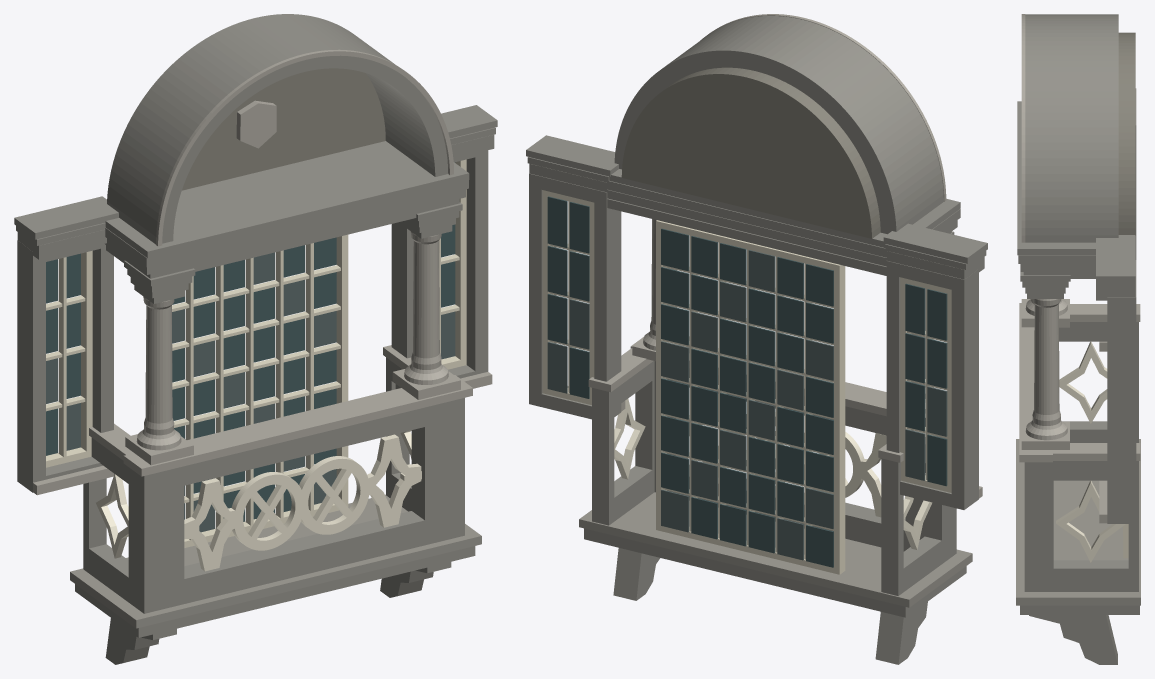
File: xuhui-yongjia-630-arched-balcony-web.glb
3 renders of one model, left to right at view 1: azimuth 30°, elevation 25°; view 2: azimuth 150°, elevation 25°; view 3: azimuth 270°, elevation 25°, orthographic. The views are drawn at different scales.
Parts seen in each view (by area): view 1: 永嘉路630号花园住宅二层拱窗与菱格阳台; view 2: 永嘉路630号花园住宅二层拱窗与菱格阳台; view 3: 永嘉路630号花园住宅二层拱窗与菱格阳台.
Part boxes in pixels (x1=…): 永嘉路630号花园住宅二层拱窗与菱格阳台: x1=14, y1=14, x2=497, y2=664; 永嘉路630号花园住宅二层拱窗与菱格阳台: x1=526, y1=14, x2=987, y2=664; 永嘉路630号花园住宅二层拱窗与菱格阳台: x1=1016, y1=14, x2=1140, y2=664.
Bounding box in the file's own units: 5.19 × 6.47 × 1.29.
